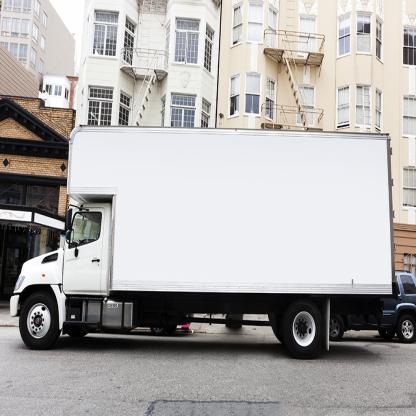normal-truck: (62, 123, 400, 365)
